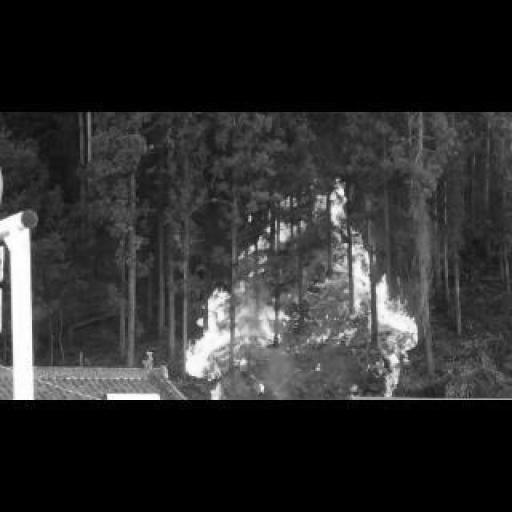smoke: (328, 178, 418, 396), (186, 280, 294, 379), (238, 181, 326, 277), (245, 346, 299, 395), (307, 328, 331, 344), (208, 382, 224, 400)
